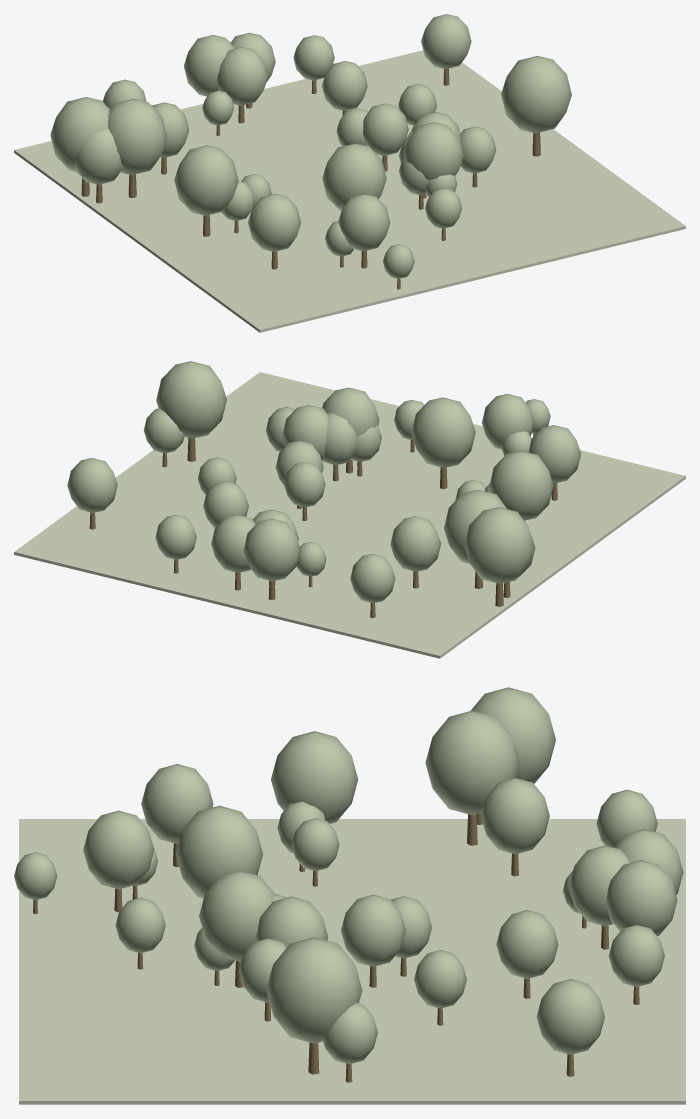
3 renders of one model, top to bottom at view 1: azimuth 30°, elevation 25°; view 2: azimuth 150°, elevation 25°; view 3: azimuth 270°, elevation 25°, orthographic. The views are drawn at different scales.
Visible parts, largest first — view 1: terrain, lod-near-6, lod-near-16, lod-near-20, lod-near-14, lod-near-8, lod-near-31, lod-near-10, lod-near-19, lod-near-17, lod-near-29, lod-near-15 (+18 smaller); view 2: terrain, lod-near-8, lod-near-6, lod-near-14, lod-near-16, lod-near-15, lod-near-22, lod-near-29, lod-near-10, lod-near-20, lod-near-17, lod-near-27 (+16 smaller); view 3: terrain, lod-near-6, lod-near-20, lod-near-16, lod-near-14, lod-near-31, lod-near-17, lod-near-8, lod-near-27, lod-near-22, lod-near-29, lod-near-10 (+16 smaller).
Boxes of the visible parts, bbox=[...] form: terrain: bbox=[14, 50, 685, 332]; lod-near-6: bbox=[501, 56, 571, 133]; lod-near-16: bbox=[174, 145, 238, 215]; lod-near-20: bbox=[108, 99, 167, 174]; lod-near-14: bbox=[322, 143, 386, 210]; lod-near-8: bbox=[50, 97, 109, 171]; lod-near-31: bbox=[403, 122, 463, 179]; lod-near-10: bbox=[248, 193, 300, 251]; lod-near-19: bbox=[217, 47, 268, 105]; lod-near-17: bbox=[338, 194, 390, 251]; lod-near-29: bbox=[421, 14, 471, 68]; lod-near-15: bbox=[184, 35, 235, 96]; terrain: bbox=[14, 372, 685, 658]; lod-near-8: bbox=[464, 507, 534, 583]; lod-near-6: bbox=[156, 361, 226, 438]; lod-near-14: bbox=[411, 397, 475, 467]; lod-near-16: bbox=[489, 451, 553, 520]; lod-near-15: bbox=[243, 518, 300, 581]; lod-near-22: bbox=[390, 516, 441, 571]; lod-near-29: bbox=[67, 458, 117, 512]; lod-near-10: bbox=[528, 425, 580, 483]; lod-near-20: bbox=[444, 490, 506, 563]; lod-near-17: bbox=[482, 394, 534, 449]; lod-near-27: bbox=[211, 514, 255, 572]; terrain: bbox=[19, 819, 685, 1104]; lod-near-6: bbox=[266, 937, 362, 1043]; lod-near-20: bbox=[425, 710, 519, 815]; lod-near-16: bbox=[271, 731, 358, 823]; lod-near-14: bbox=[175, 805, 263, 898]; lod-near-31: bbox=[199, 870, 275, 961]; lod-near-17: bbox=[83, 810, 154, 889]; lod-near-8: bbox=[471, 687, 555, 783]; lod-near-27: bbox=[606, 860, 677, 935]; lod-near-22: bbox=[481, 778, 549, 854]; lod-near-29: bbox=[536, 979, 604, 1054]; lod-near-10: bbox=[141, 764, 213, 843].
Size of the model in its own units: 33.83 by 7.28 by 32.24.
